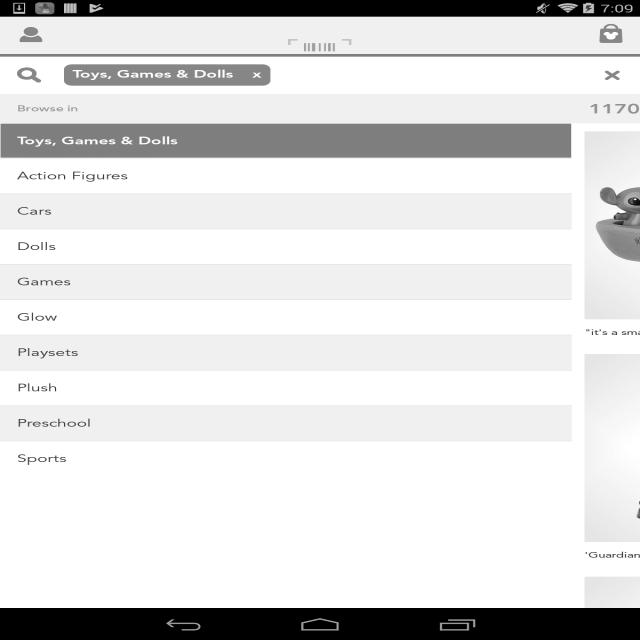ImageButton: (288, 19, 352, 52)
ImageView: (571, 93, 640, 319), (571, 413, 640, 639), (584, 131, 640, 319), (584, 354, 640, 542), (571, 351, 640, 411), (584, 576, 640, 640), (288, 54, 352, 86), (13, 23, 47, 45)
TextView: (0, 194, 572, 229), (0, 229, 572, 264), (0, 300, 572, 335), (0, 335, 572, 370), (0, 406, 572, 441), (0, 441, 572, 476), (0, 123, 572, 158), (0, 159, 572, 193), (0, 265, 572, 299), (0, 371, 572, 405), (0, 94, 572, 123), (589, 319, 640, 349), (584, 327, 640, 342), (584, 550, 640, 565), (589, 100, 640, 116), (593, 23, 627, 45)
